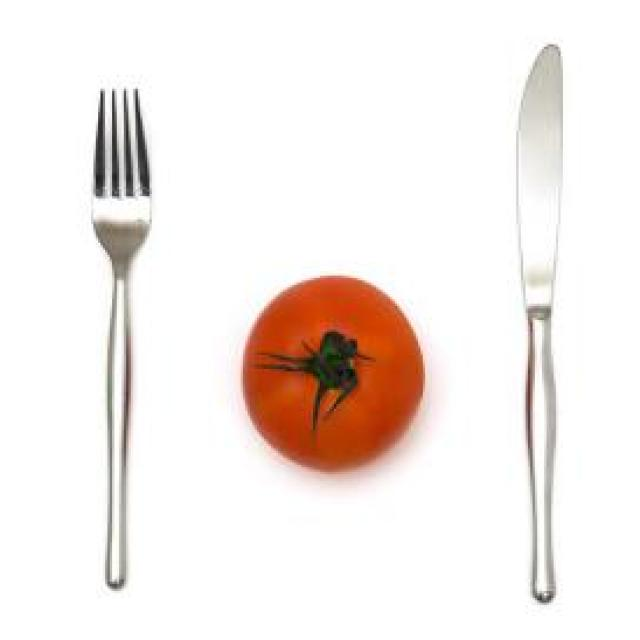knife: (514, 47, 572, 597)
